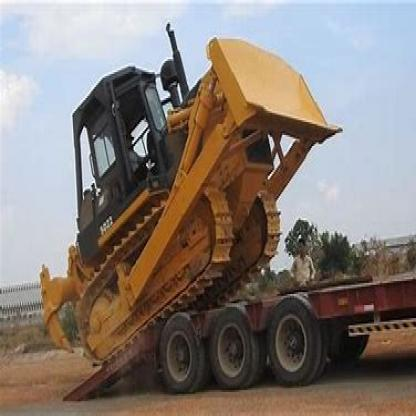bull_dozer/loader/grader: (34, 15, 343, 360)
